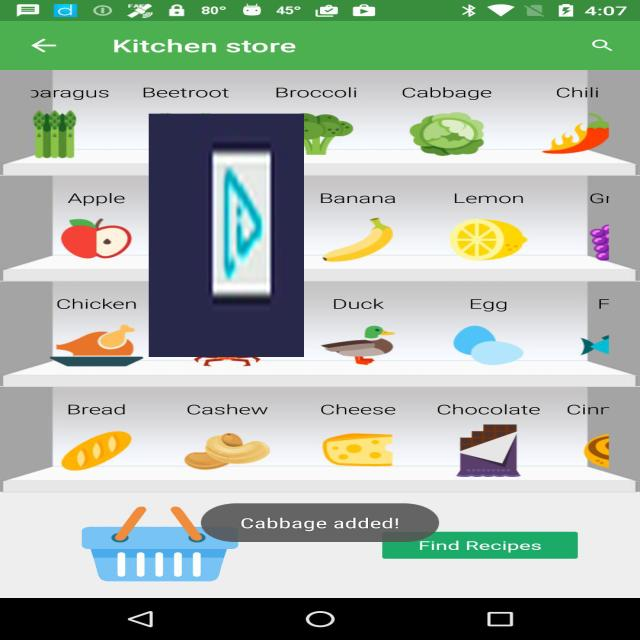sneaking: (149, 114, 304, 357)
